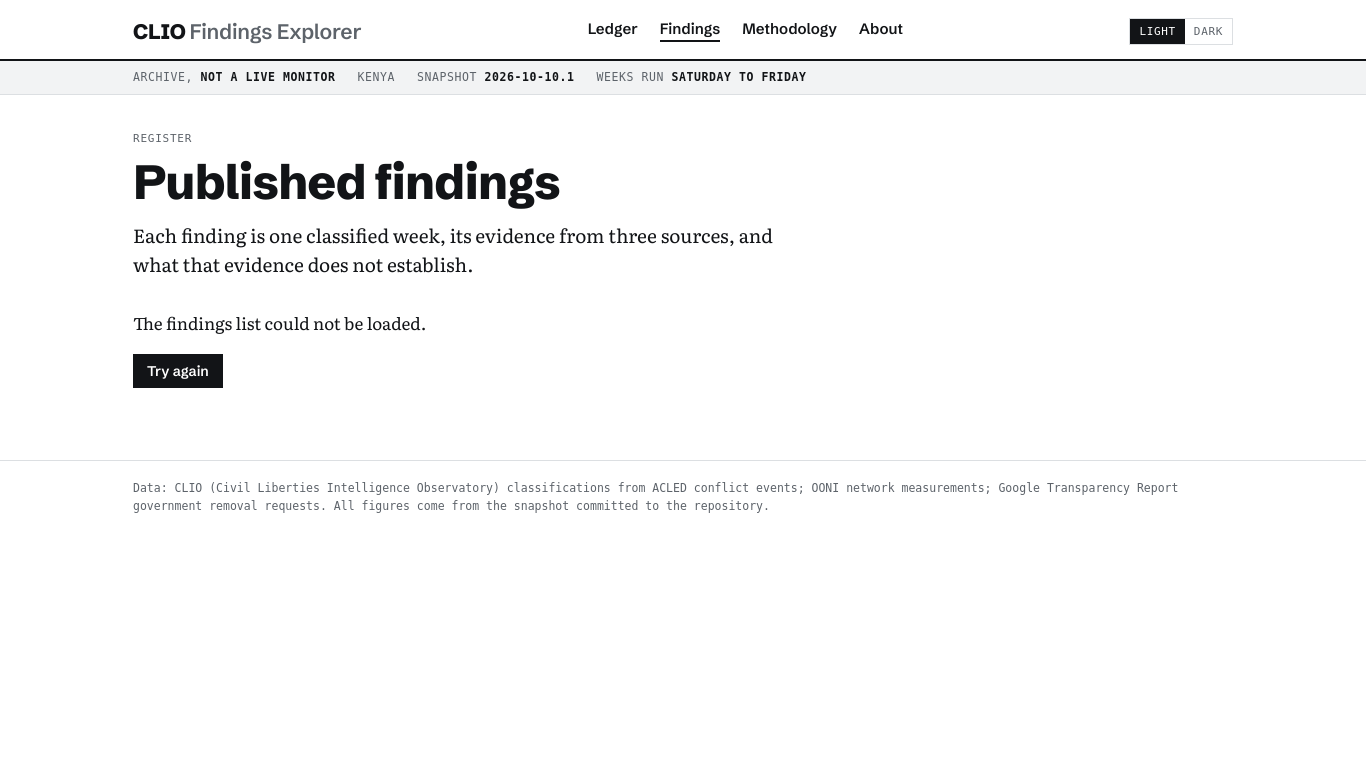
Test case: /findings › shows an error with a working retry
Expected: the text "The findings list could not be loaded." is shown, left=133, top=310, right=426, bottom=335
What coordinates should you click on to do the following:
click the button "Try again"
I would click on:
 (178, 371)
Its box is left=133, top=354, right=223, bottom=388.
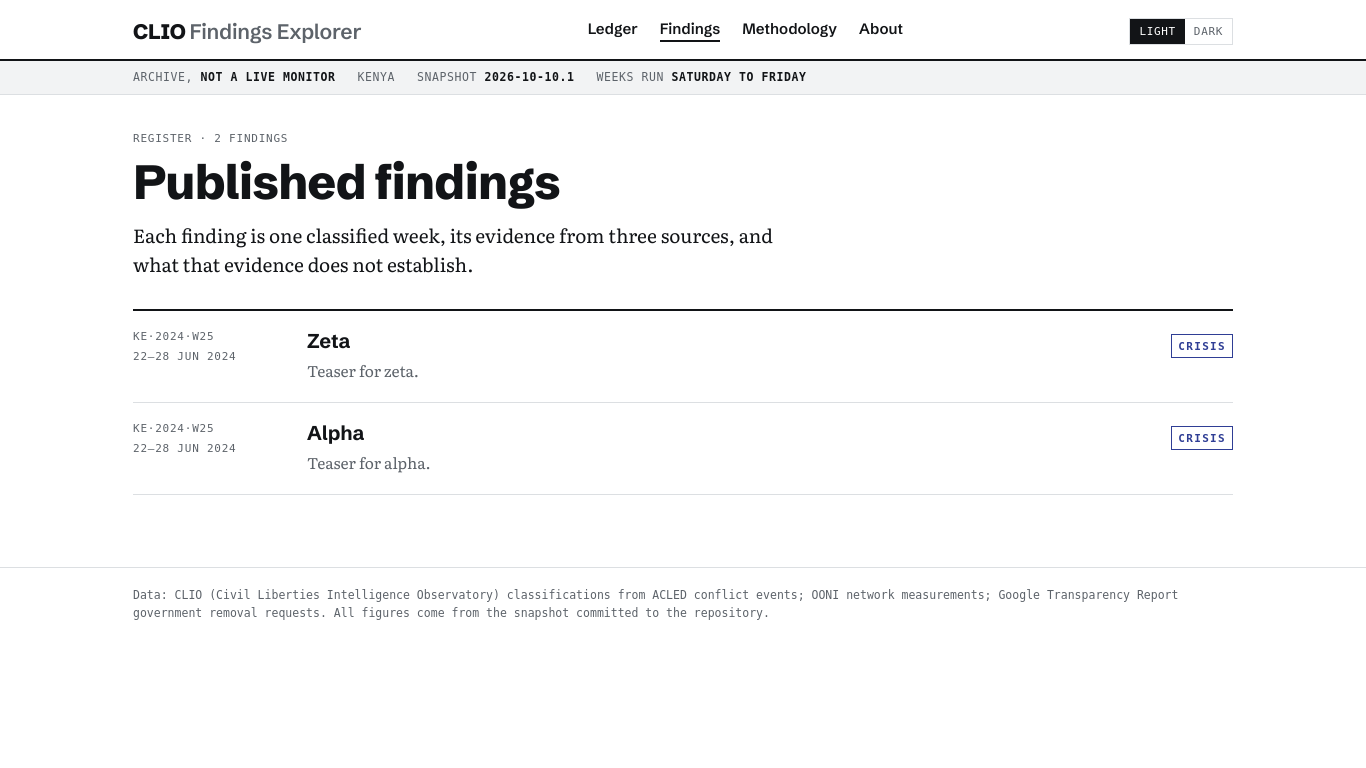
Expected: the text "Register · 2 findings" is shown, left=133, top=132, right=288, bottom=145
